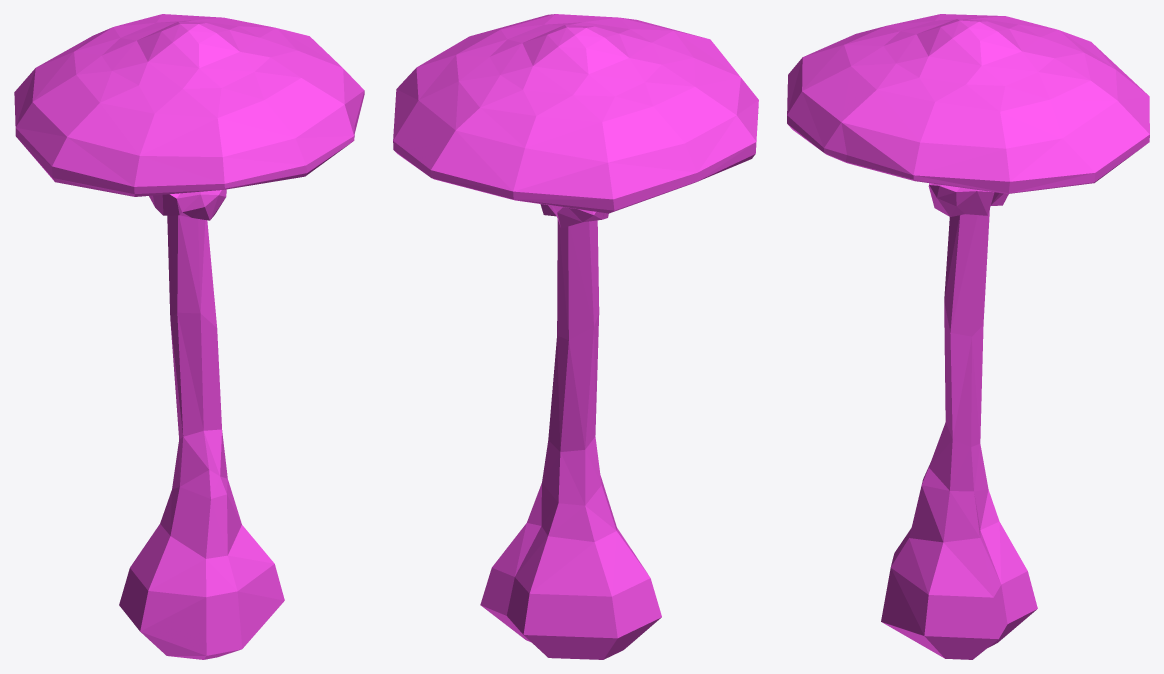
Rendered from SM_Mushroom_Slim_Big_H_Fantasy.fbx.
3 views of the same model, side by side, from view 1: azimuth 30°, elevation 25°; view 2: azimuth 150°, elevation 25°; view 3: azimuth 270°, elevation 25° (orthographic).
Visible parts, largest first — view 1: SM_Mushroom_Slim_Big_H_Fantasy; view 2: SM_Mushroom_Slim_Big_H_Fantasy; view 3: SM_Mushroom_Slim_Big_H_Fantasy.
Boxes of the visible parts, x1,y1,x2,y2 form: SM_Mushroom_Slim_Big_H_Fantasy: (14,14,364,659); SM_Mushroom_Slim_Big_H_Fantasy: (393,14,758,659); SM_Mushroom_Slim_Big_H_Fantasy: (787,14,1149,659).
Bounding box in the file's own units: 2.15 × 4 × 2.15.
